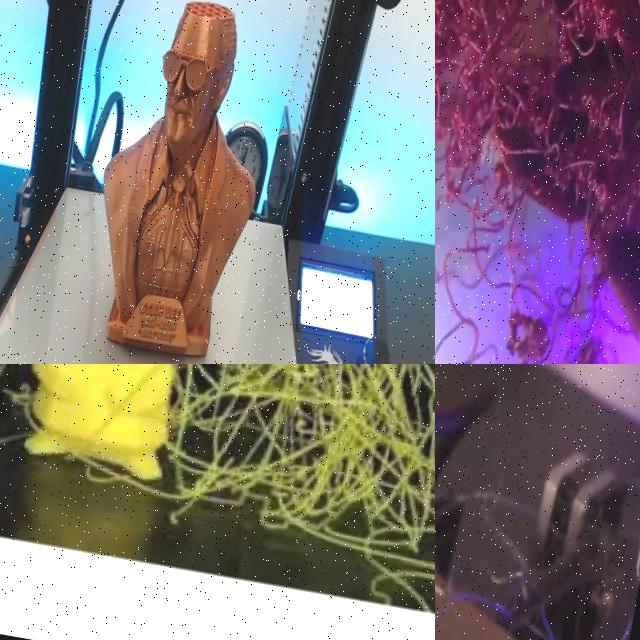spaghetti: (146, 364, 435, 628), (435, 425, 640, 640), (435, 161, 600, 364)
